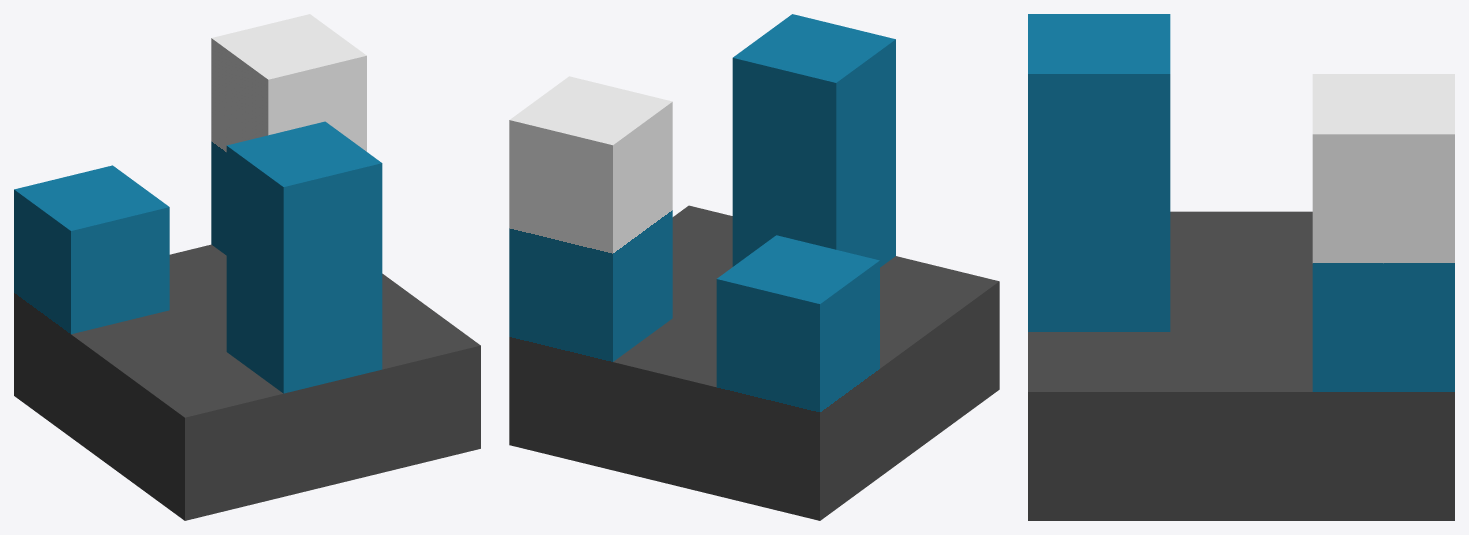
The model's file is tray.dae.
The picture shows the model from 3 angles, left to right: view 1: azimuth 30°, elevation 25°; view 2: azimuth 150°, elevation 25°; view 3: azimuth 270°, elevation 25°; orthographic projection. The views are drawn at different scales.
Visible parts, largest first — view 1: tray.layer; view 2: tray.layer; view 3: tray.layer.
Part boxes in pixels (x1,y1,x2,y2): tray.layer: [14, 14, 480, 520]; tray.layer: [509, 14, 999, 520]; tray.layer: [1028, 14, 1454, 520].
Bounding box in the file's own units: 0.3 × 0.3 × 0.3.
1 material, 1 textured.
